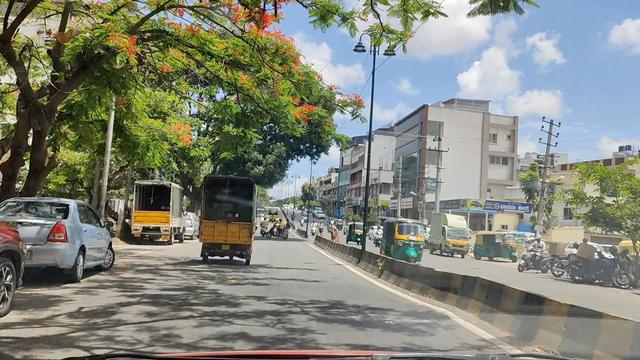HMV: (196, 172, 254, 263), (134, 181, 178, 235)
